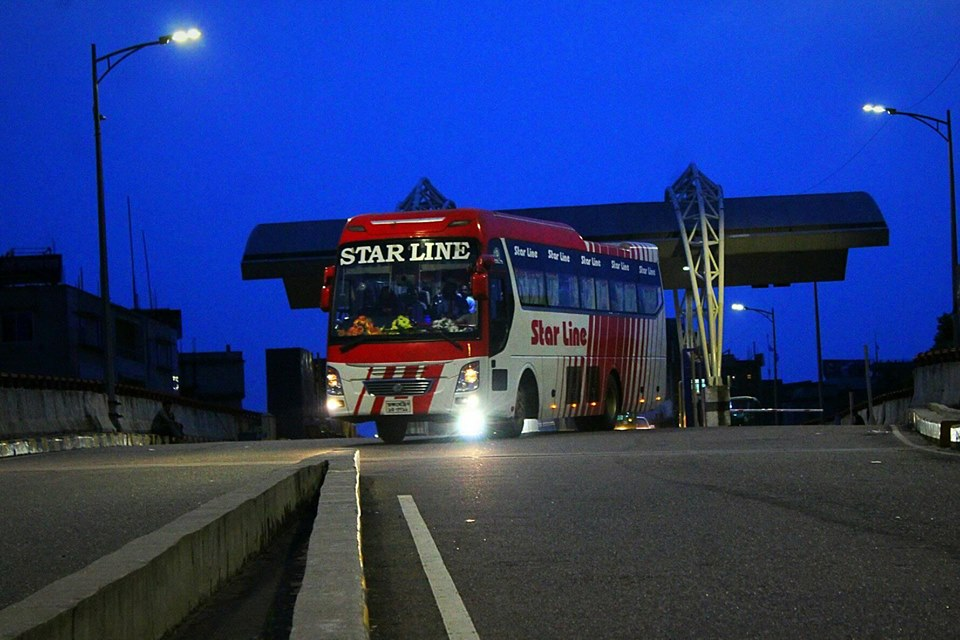bus: (310, 198, 683, 436)
